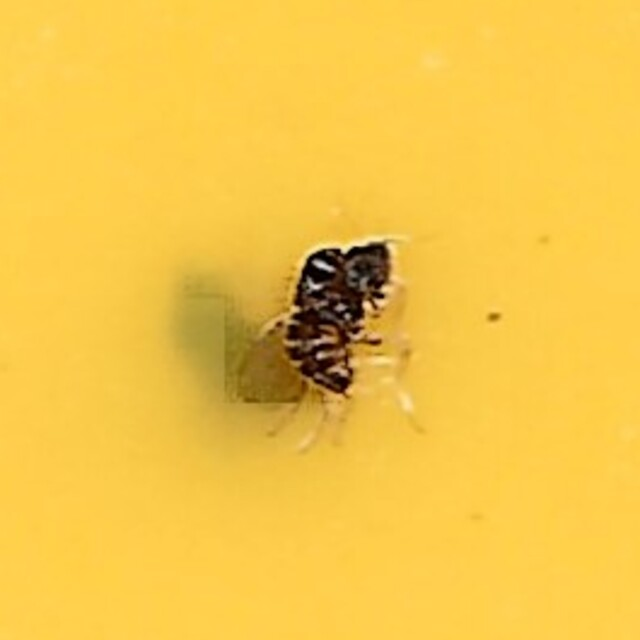Brachycera: (242, 237, 398, 403)
